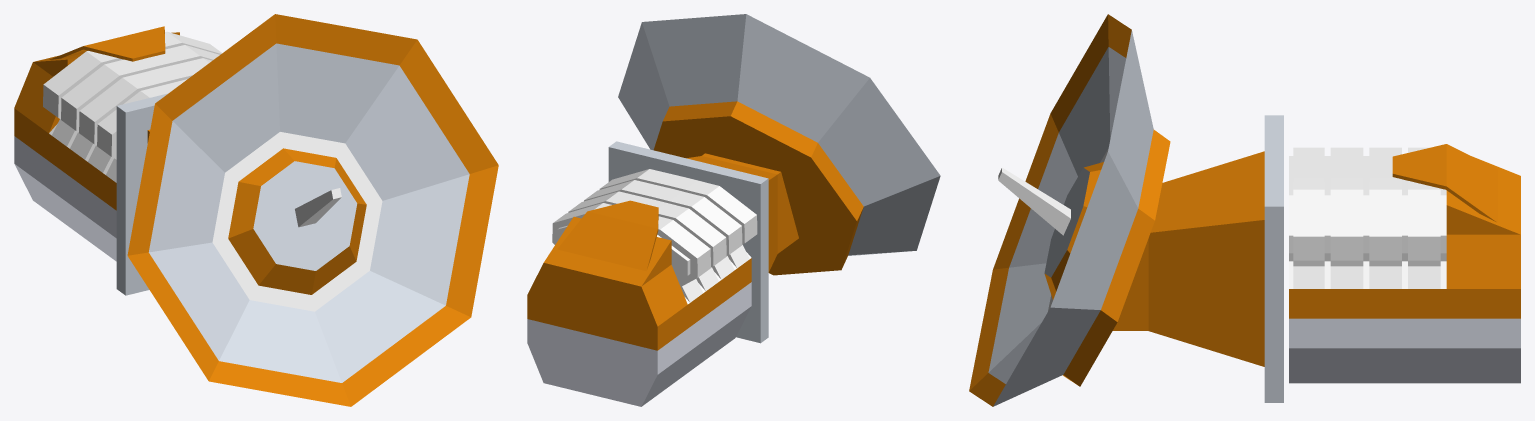
File: HamoicPulseLaser.fbx
3 renders of one model, left to right at view 1: azimuth 30°, elevation 25°; view 2: azimuth 150°, elevation 25°; view 3: azimuth 270°, elevation 25°, orthographic. The views are drawn at different scales.
Visible parts, largest first — view 1: mergedBlocks; view 2: mergedBlocks; view 3: mergedBlocks.
Part boxes in pixels (box(x1,y1,x2,y2)): mergedBlocks: box(14, 14, 498, 406); mergedBlocks: box(527, 14, 940, 406); mergedBlocks: box(969, 14, 1520, 406).
Bounding box in the file's own units: 11.88 × 10.32 × 14.27.
